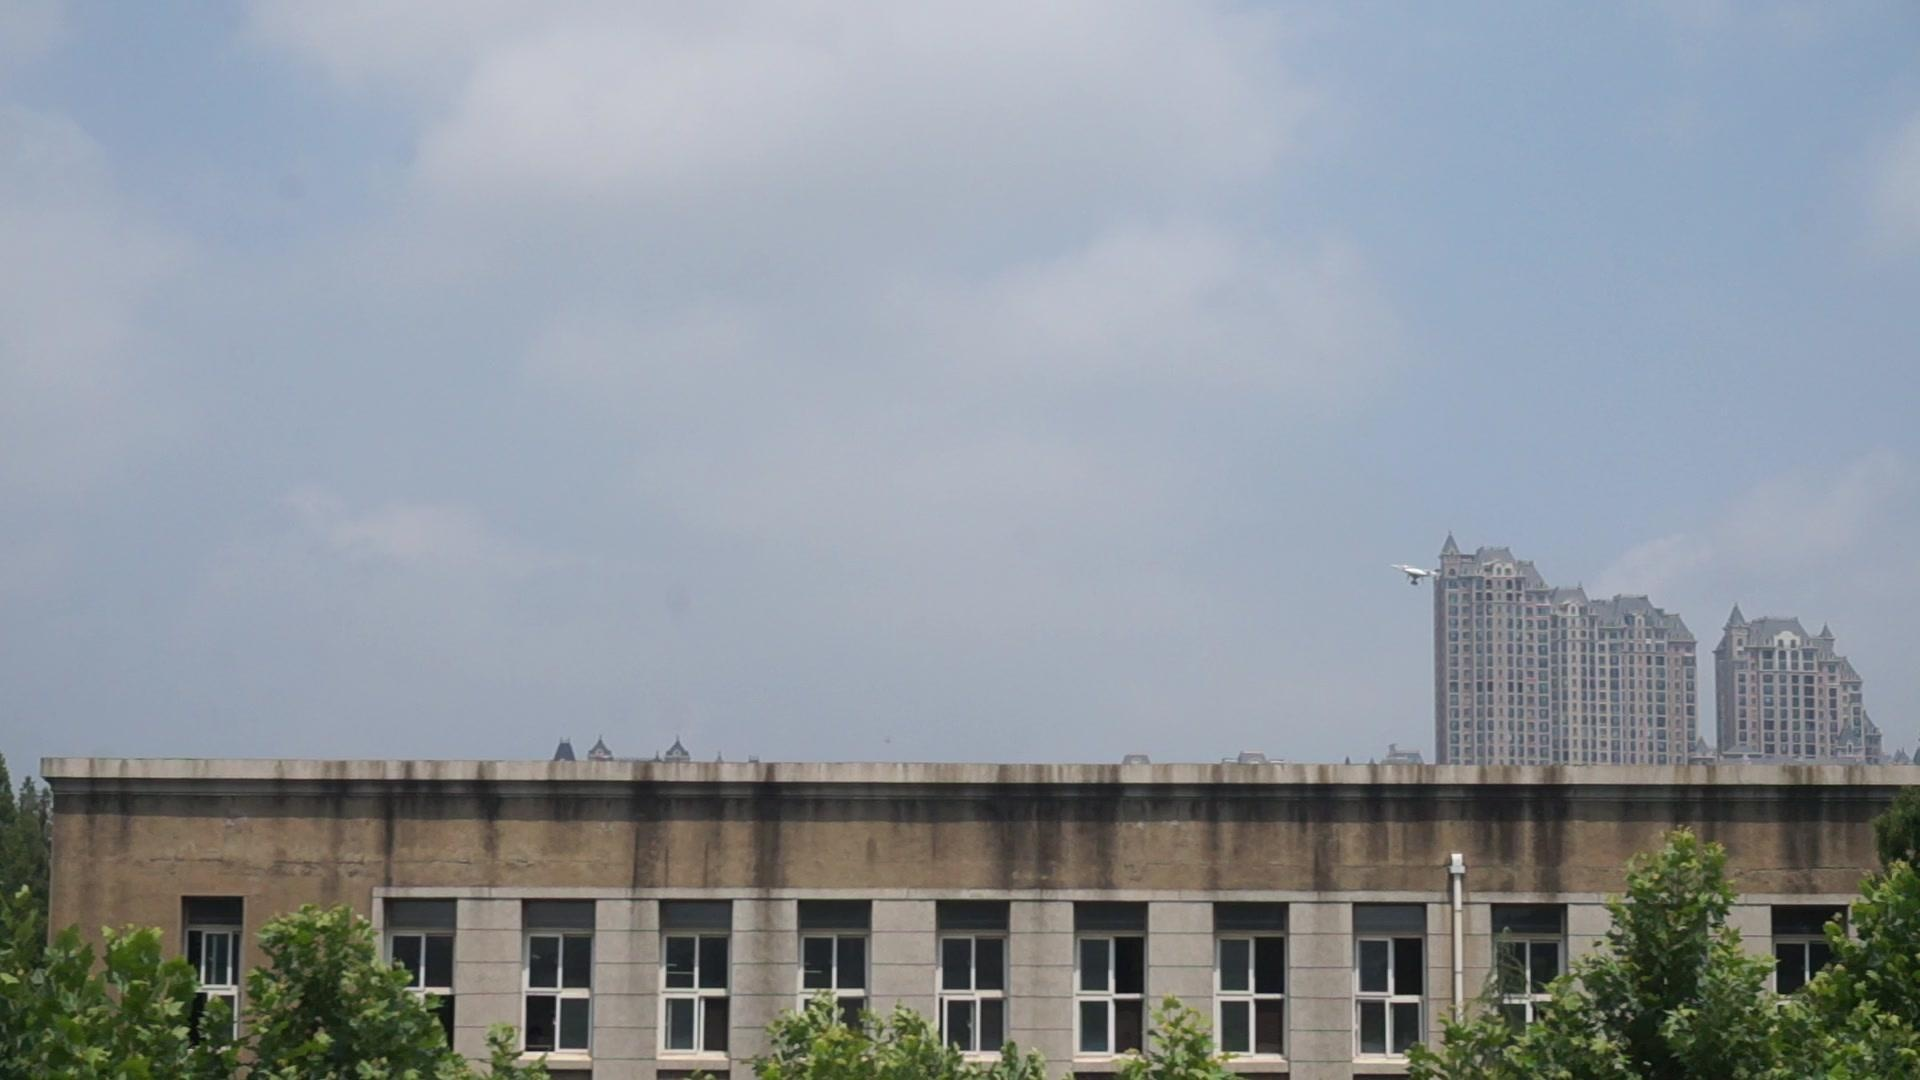UAV: (1393, 564, 1443, 585)
